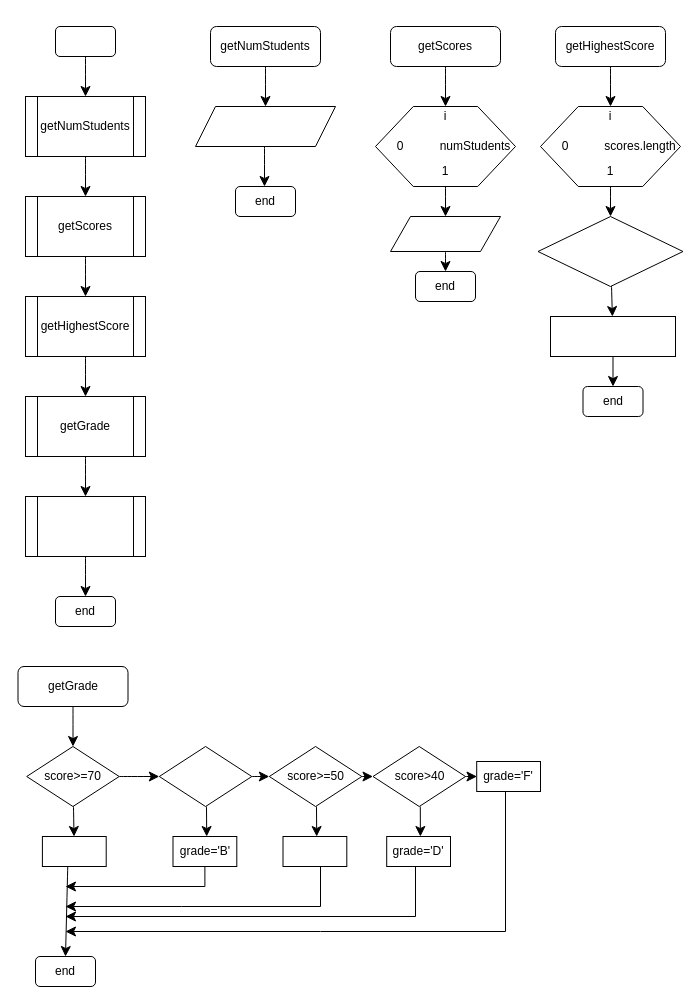
Image size: 700x1004. Some labels were removed from this diagram. The centre of each missing label's shape, as x and y in pixels:
"grade='A'" belongs at pixel 73 851.
"grade='C'" belongs at pixel 314 851.
"highest=scores[i]" belongs at pixel 613 336.
"output" belongs at pixel 85 526.
"read numStudents" belongs at pixel 265 126.
"read scores[i]" belongs at pixel 445 234.
"score>=60" belongs at pixel 205 776.
"scores[i]>highest" belongs at pixel 610 251.
"start" belongs at pixel 85 41.
